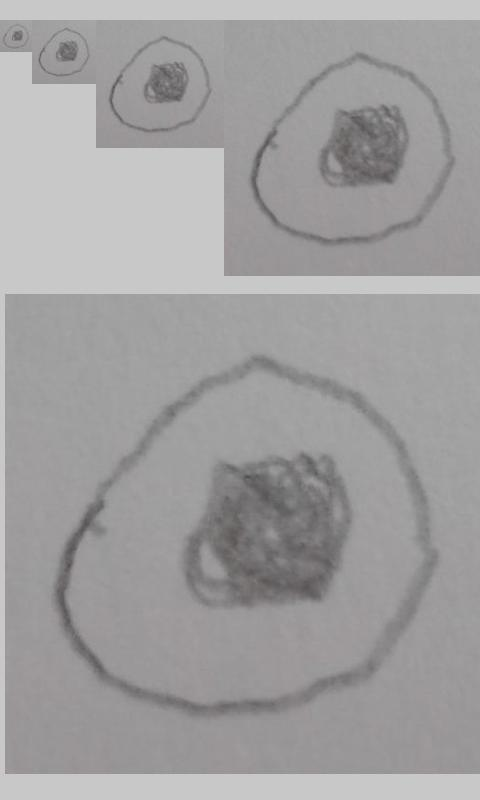radio_button: (51, 353, 441, 719), (249, 50, 457, 247), (107, 34, 212, 134), (38, 27, 90, 77), (2, 23, 30, 50)
